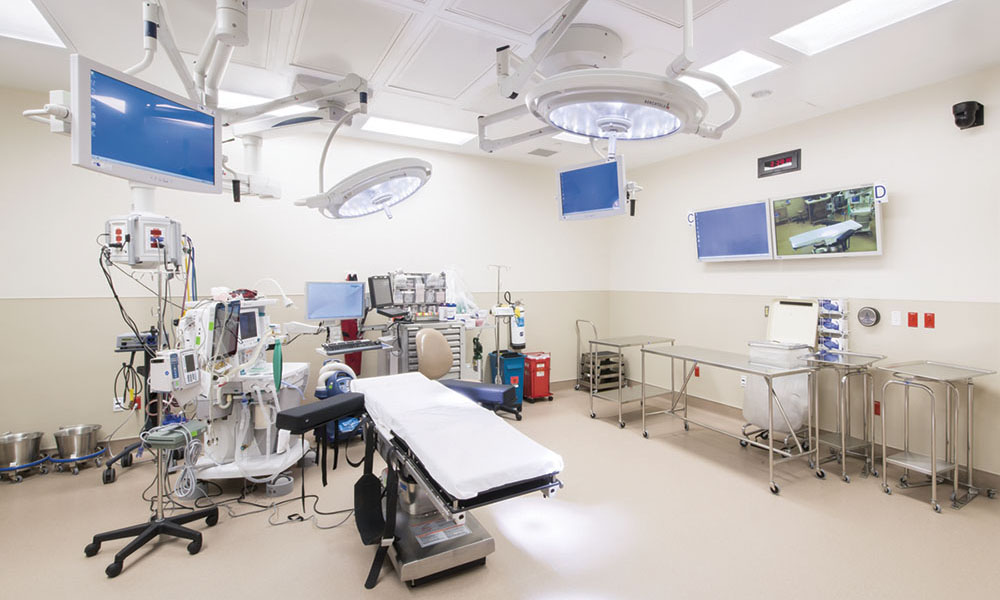TV: (771, 202, 878, 257), (692, 206, 771, 259)
bedside_monitor: (68, 50, 223, 197), (553, 162, 633, 220), (195, 302, 236, 368), (224, 306, 274, 349)
chair: (412, 321, 466, 384)
computer: (305, 281, 364, 318)
electrosurgical_unit: (114, 337, 170, 350)
infusion_pump: (154, 348, 202, 391)
iv_pole: (483, 255, 515, 409)
keyboard: (312, 337, 384, 361)
medical_drawer: (391, 319, 468, 384)
operating_bed: (274, 371, 567, 587)
surgical_light: (525, 77, 720, 160), (307, 151, 447, 229)
table: (642, 345, 817, 489)
utility_cart: (882, 363, 1000, 516), (589, 332, 676, 430), (824, 347, 884, 481), (571, 317, 633, 395)
ventilator: (178, 298, 310, 494)
waste_bin: (492, 351, 521, 409), (525, 350, 553, 401)
